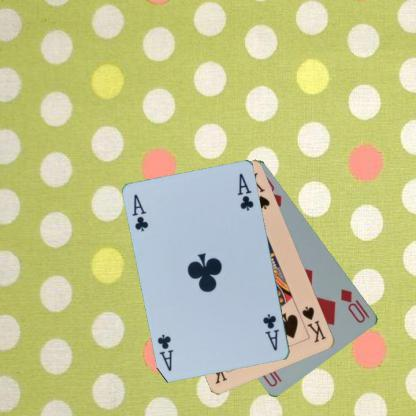10d: (338, 286, 372, 325)
Ac: (130, 191, 151, 233), (260, 311, 280, 352)
Ks: (299, 304, 328, 344)
